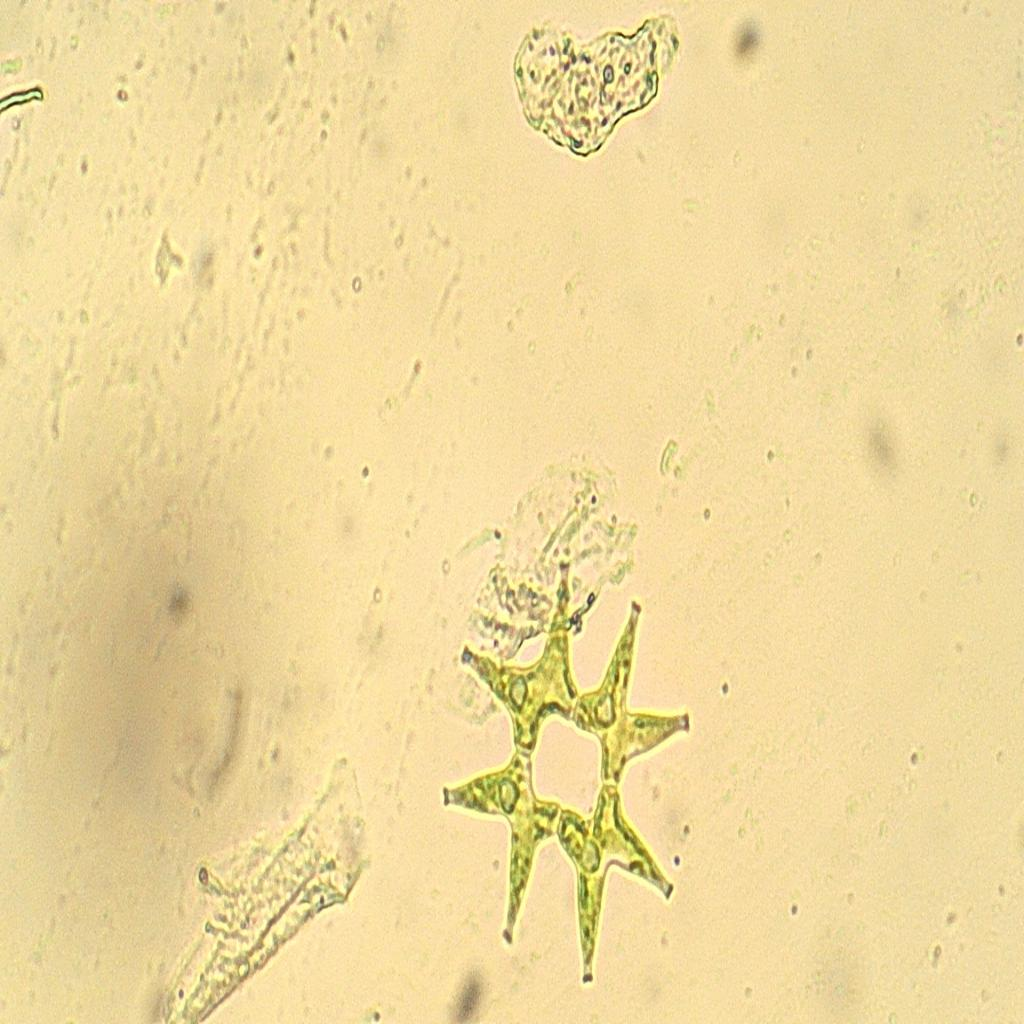Pediastrum_CO: (431, 547, 691, 996)
